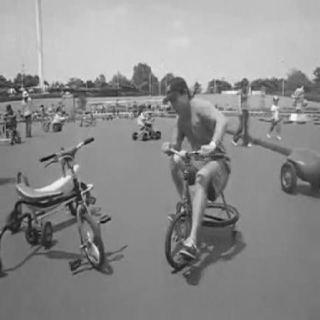other: (11, 143, 120, 269)
